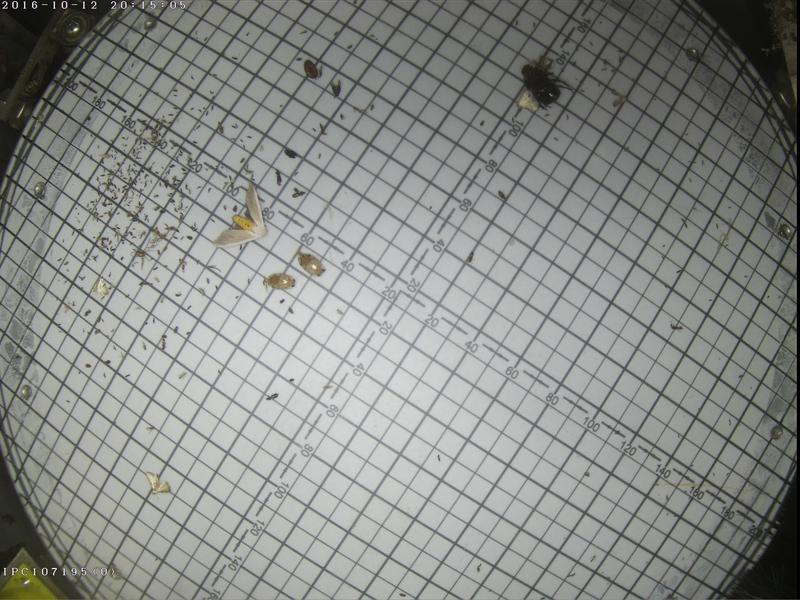Rice Leaf Roller: (142, 468, 171, 495), (514, 85, 539, 113), (90, 273, 109, 296)
